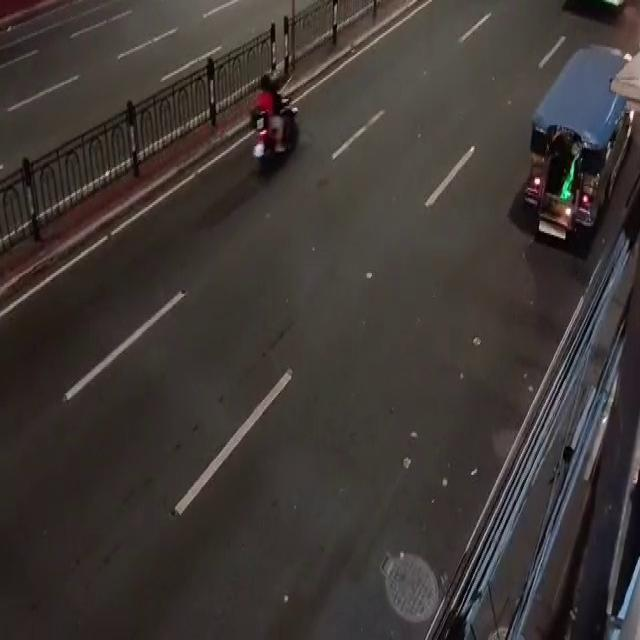motorcycle: (233, 64, 320, 190)
